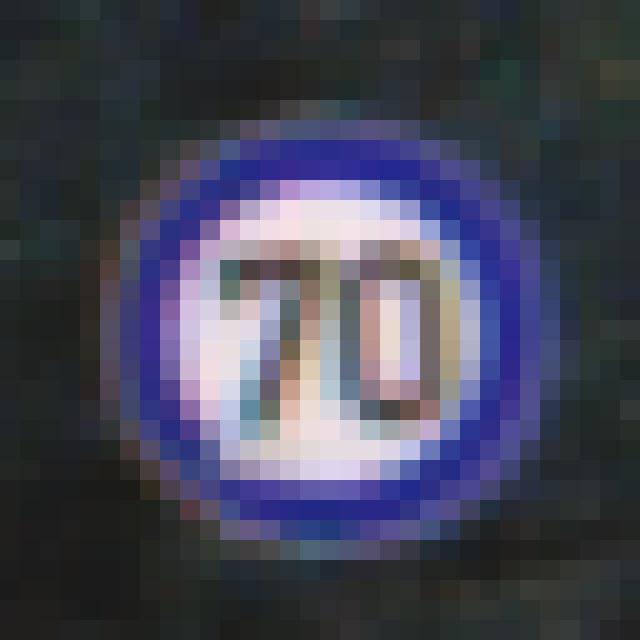SPEED LIMIT 70: (109, 105, 552, 551)
